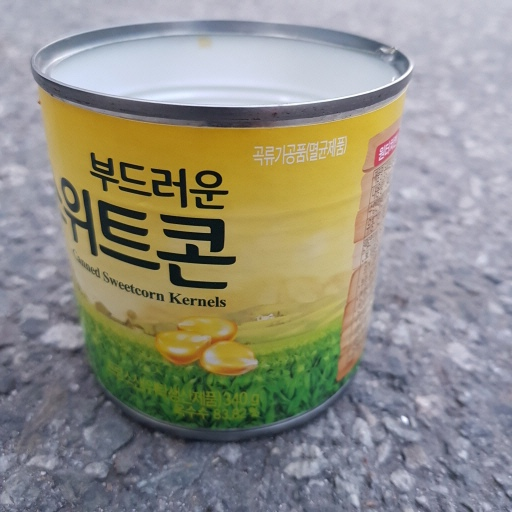Metal_1: (29, 17, 414, 439)
